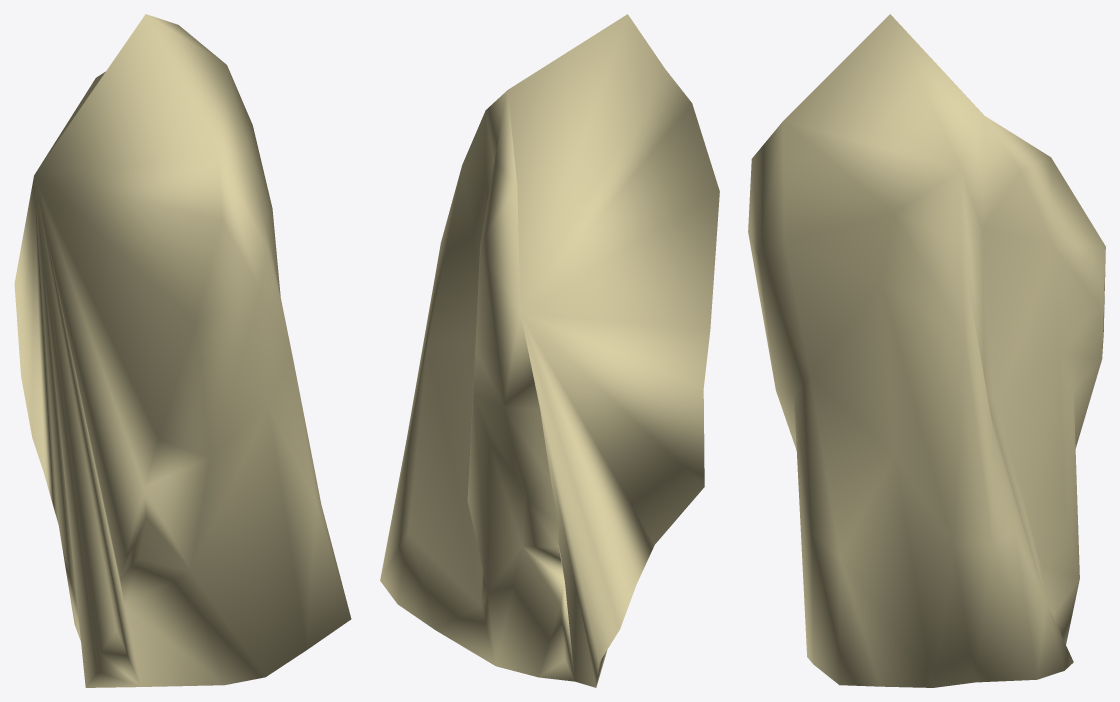
The model's file is hombro-izquierdo.obj.
3 views of the same model, side by side, from view 1: azimuth 30°, elevation 25°; view 2: azimuth 150°, elevation 25°; view 3: azimuth 270°, elevation 25° (orthographic). The views are drawn at different scales.
Visible parts, largest first — view 1: model.036; view 2: model.036; view 3: model.036.
Part boxes in pixels (x1,y1,x2,y2): model.036: (14,14,351,687); model.036: (380,14,719,687); model.036: (748,14,1105,687).
Size of the model in its own units: 0.0383 by 0.0993 by 0.0487.
